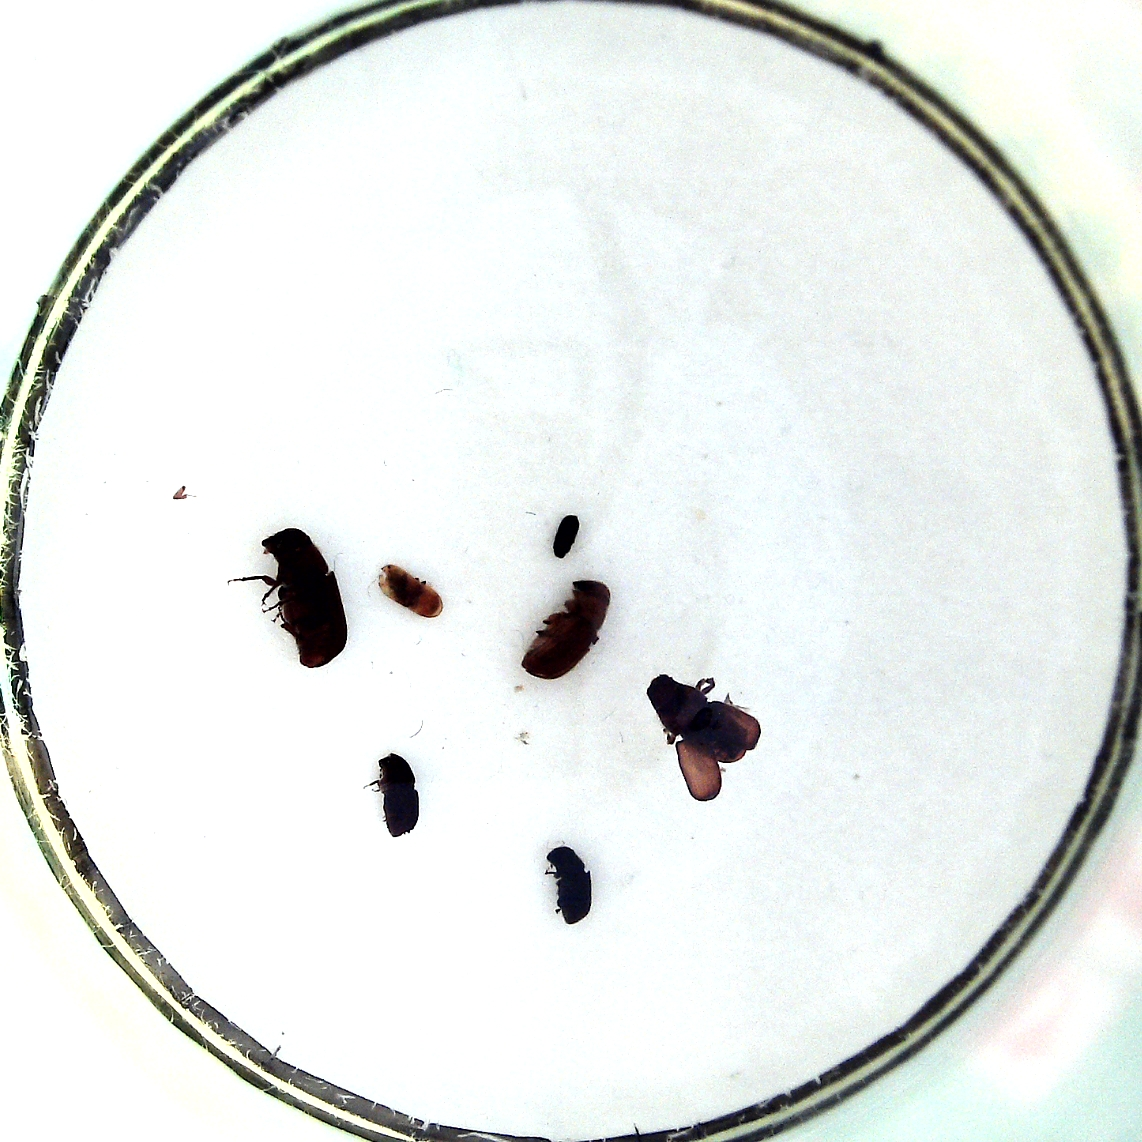Leconte: (644, 672, 762, 803), (250, 526, 352, 668), (519, 578, 614, 680)
Linnaeus: (373, 749, 422, 837)
acuminatus: (371, 559, 448, 621)
armandi: (544, 844, 594, 926)
coleoptera: (550, 513, 583, 559)
